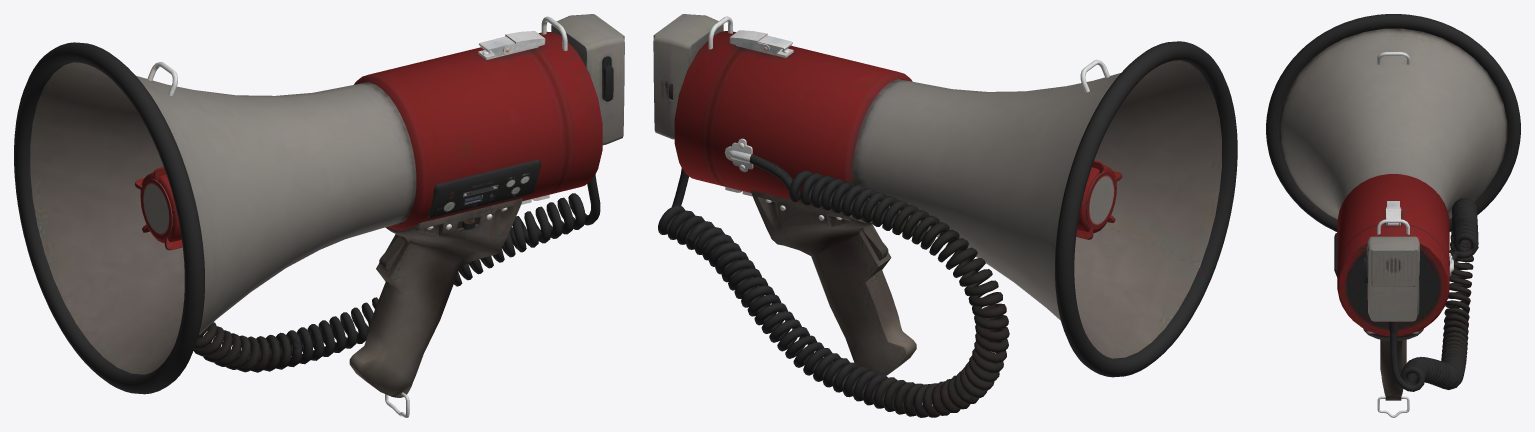
Rendered from Megaphone_01.glb.
3 renders of one model, left to right at view 1: azimuth 30°, elevation 25°; view 2: azimuth 150°, elevation 25°; view 3: azimuth 270°, elevation 25°, orthographic. The views are drawn at different scales.
Visible parts, largest first — view 1: Megaphone_01; view 2: Megaphone_01; view 3: Megaphone_01.
Part boxes in pixels (x1,y1,x2,y2): Megaphone_01: (14,14,624,417); Megaphone_01: (653,14,1237,417); Megaphone_01: (1266,14,1520,417).
Bounding box in the file's own units: 0.3707 × 0.3001 × 0.2285.
1 material, 1 textured.
